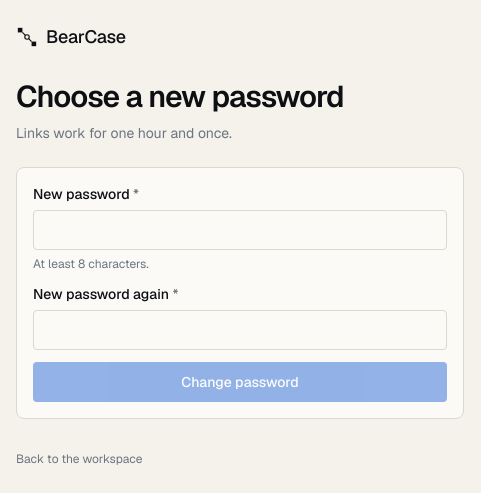
it: /reset › asks for the password twice, refuses a mismatch, and posts the token with the new password
Type "correct horse" into the password field labelled "New password *" at (240, 230), box [33,210,447,250]
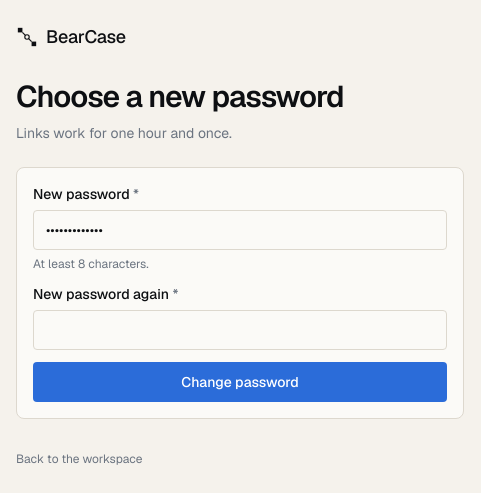
Type "correct hors" into the password field labelled "New password again *" at (240, 330), box [33,310,447,350]
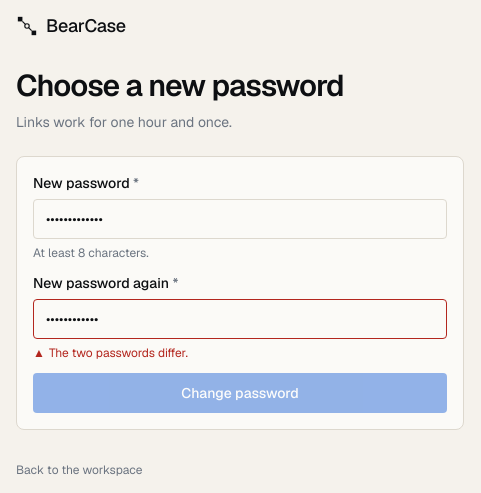
Expected: the message shows "The two passwords differ.", [49,345,188,361]
Expected: the button "Change password" is disabled, [33,373,447,413]
Type "correct horse" into the password field labelled "New password again *" at (240, 319), box [33,299,447,339]
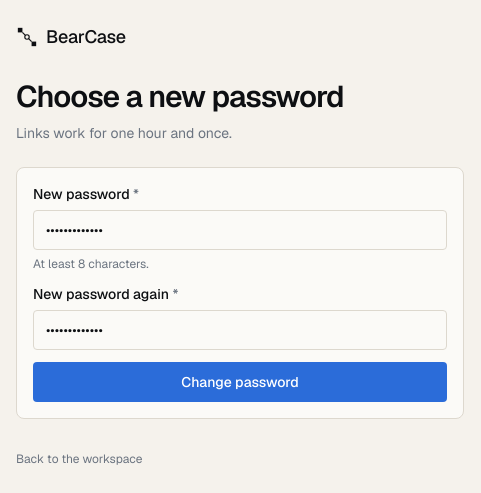
Expected: the message "▲ The two passwords differ." is gone
Click the button "Change password" at (240, 382), box [33,362,447,402]
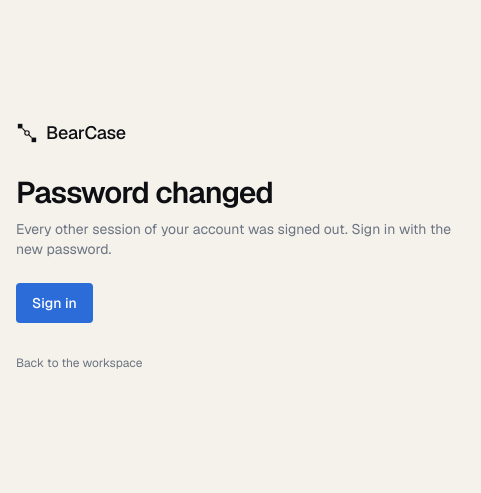
Expected: the heading "Password changed" is shown, [16,173,273,212]
